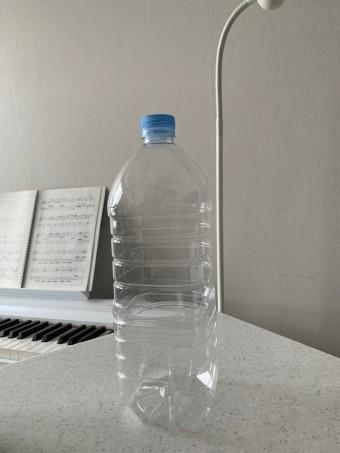bottle: (104, 113, 221, 432)
